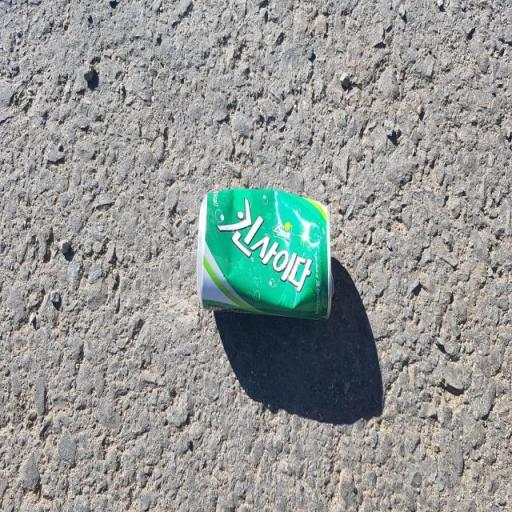metal: (182, 160, 344, 347)
